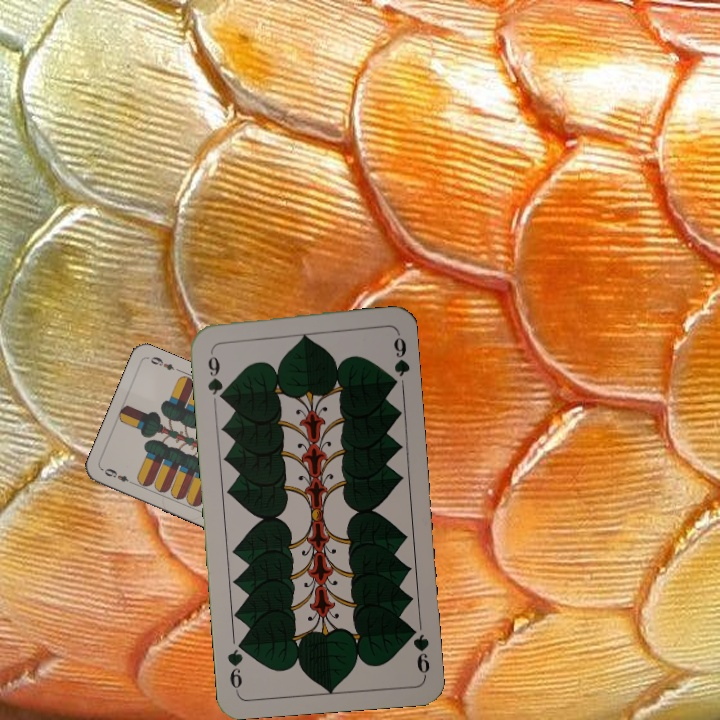E9: (100, 464, 137, 487)
G9: (404, 621, 433, 679), (203, 345, 228, 403)
